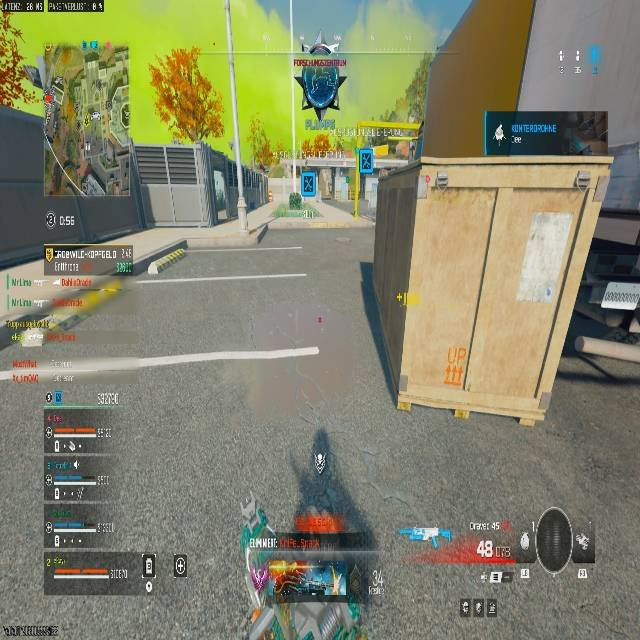player: (293, 42, 346, 128)
